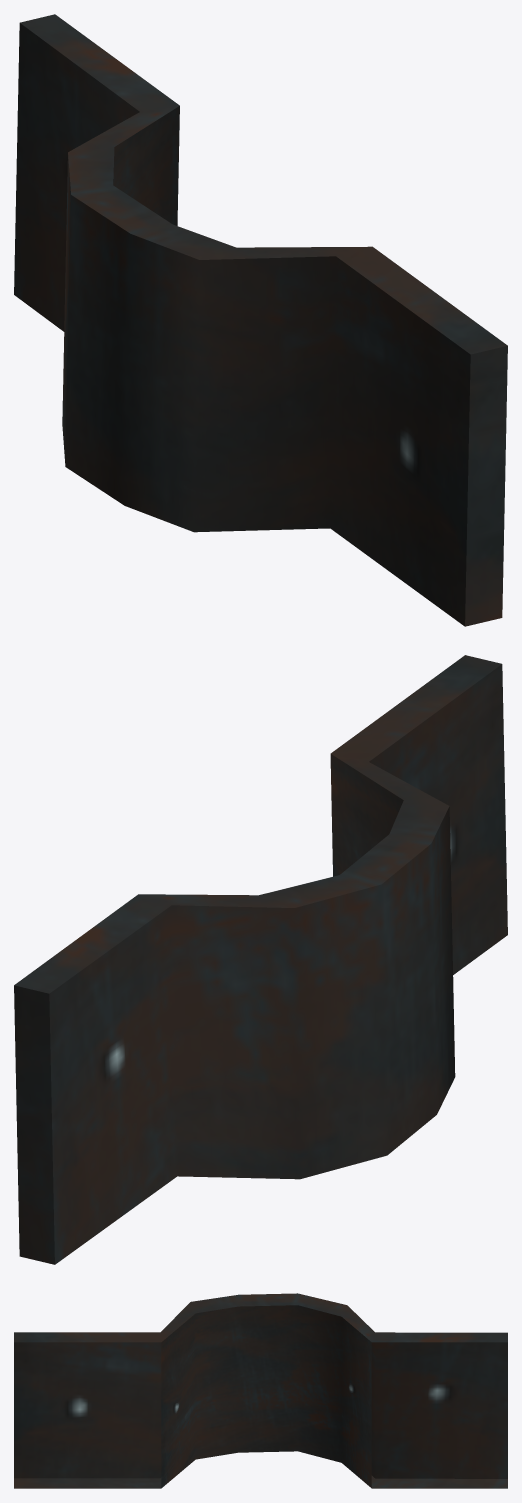
The model's file is wallCHain 1.fbx.
3 views of the same model, one above another, from view 1: azimuth 30°, elevation 25°; view 2: azimuth 150°, elevation 25°; view 3: azimuth 270°, elevation 25° (orthographic). The views are drawn at different scales.
Visible parts, largest first — view 1: chainThing; view 2: chainThing; view 3: chainThing.
Part boxes in pixels (x1,y1,x2,y2): chainThing: [14, 14, 507, 626]; chainThing: [14, 655, 507, 1264]; chainThing: [14, 1293, 507, 1488].
Bounding box in the file's own units: 14.29 × 20.56 × 61.53.
